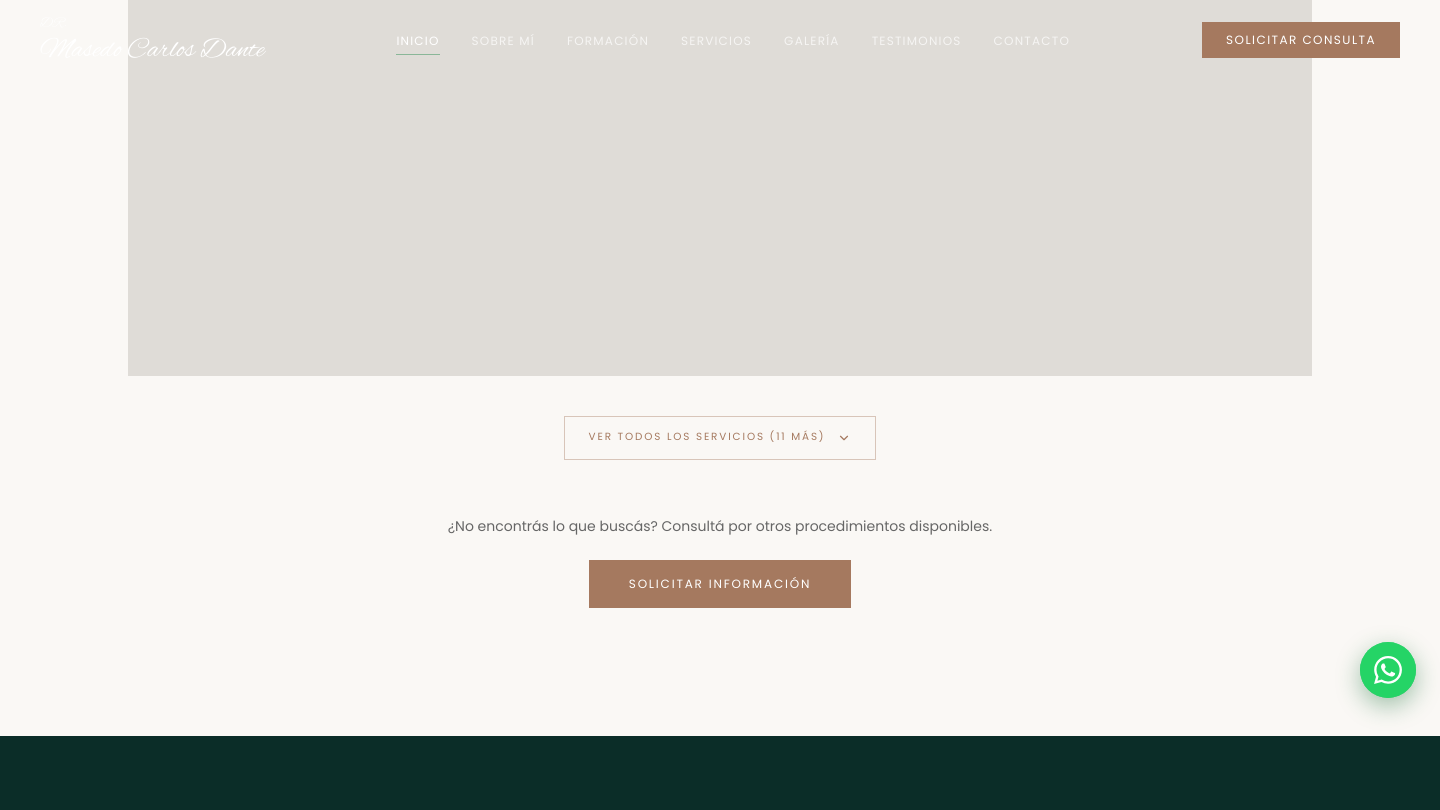
Scenario: landing › shows result CTAs only for services with linked clinical photos
The image size is (1440, 810).
(page scrolled)
Click the button "Ver todos los servicios (11 más)" at coordinates (720, 438), box [564, 416, 876, 460]
(page scrolled)
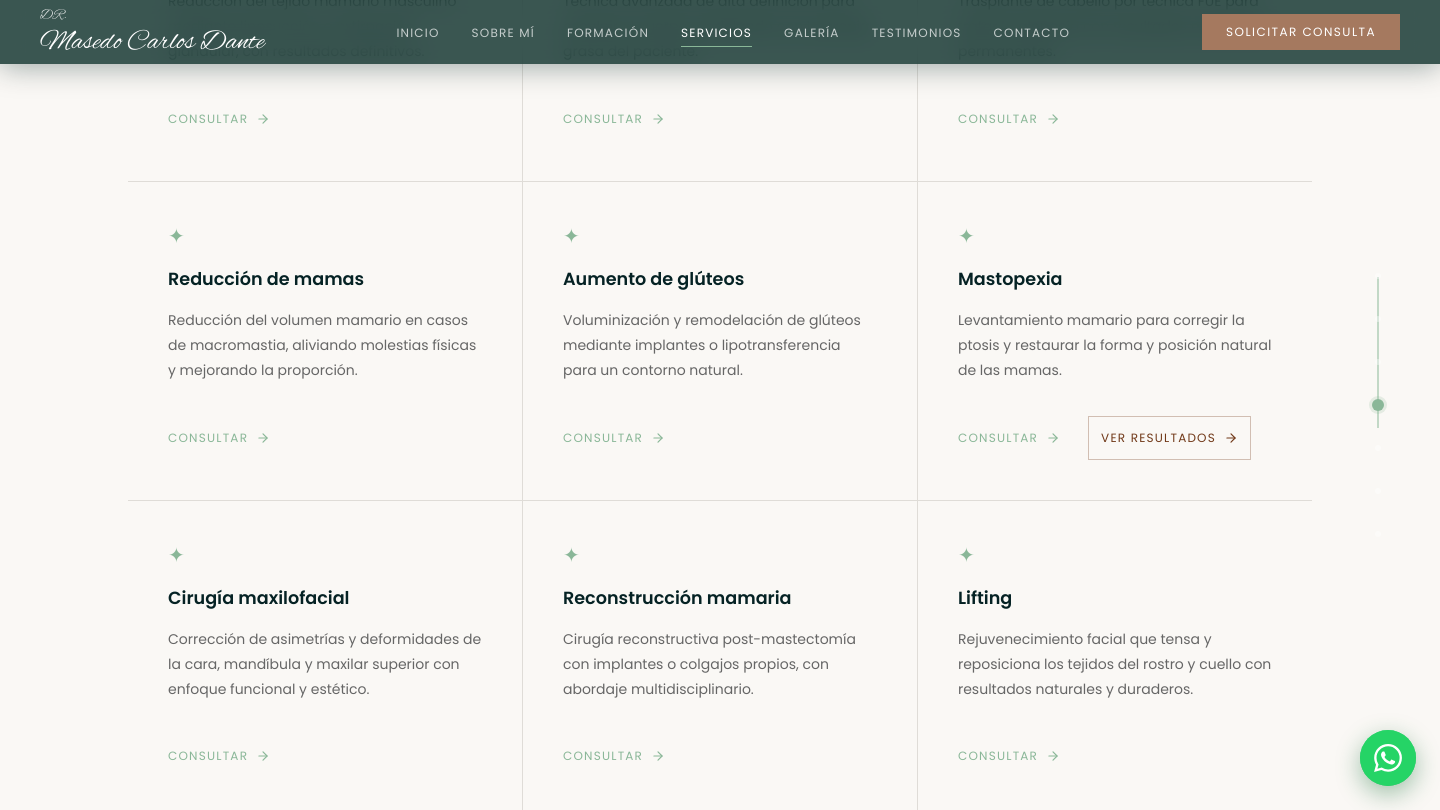
Result: the button with aria-label "ver resultados de mastopexia" is shown at [1088, 416, 1251, 460]
